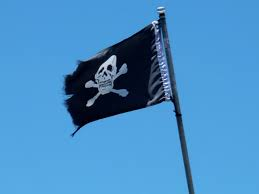Jolly Roger Flag: (62, 18, 172, 133)
